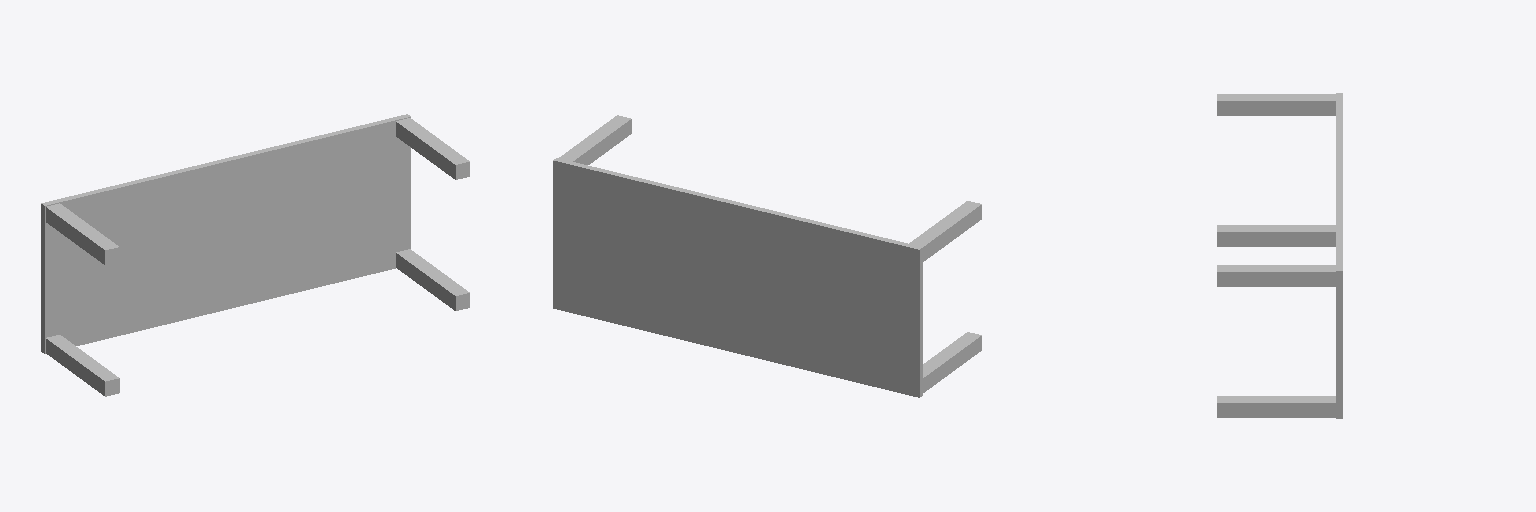
The model's file is random_table70.obj.
3 views of the same model, side by side, from view 1: azimuth 30°, elevation 25°; view 2: azimuth 150°, elevation 25°; view 3: azimuth 270°, elevation 25° (orthographic).
Visible parts, largest first — view 1: Table_Cube.1415, TableLeg0_Cube.1416, TableLeg2_Cube.1418, TableLeg3_Cube.1419, TableLeg1_Cube.1417; view 2: Table_Cube.1415, TableLeg1_Cube.1417, TableLeg3_Cube.1419, TableLeg0_Cube.1416; view 3: TableLeg0_Cube.1416, TableLeg1_Cube.1417, TableLeg2_Cube.1418, TableLeg3_Cube.1419, Table_Cube.1415.
Boxes of the visible parts, x1=… form: Table_Cube.1415: x1=41, y1=114, x2=410, y2=353; TableLeg0_Cube.1416: x1=396, y1=118, x2=469, y2=179; TableLeg2_Cube.1418: x1=396, y1=249, x2=469, y2=310; TableLeg3_Cube.1419: x1=46, y1=335, x2=119, y2=396; TableLeg1_Cube.1417: x1=46, y1=203, x2=119, y2=265; Table_Cube.1415: x1=553, y1=158, x2=922, y2=397; TableLeg1_Cube.1417: x1=909, y1=201, x2=981, y2=261; TableLeg3_Cube.1419: x1=923, y1=332, x2=981, y2=392; TableLeg0_Cube.1416: x1=559, y1=115, x2=631, y2=164; TableLeg0_Cube.1416: x1=1217, y1=265, x2=1335, y2=286; TableLeg1_Cube.1417: x1=1217, y1=94, x2=1335, y2=115; TableLeg2_Cube.1418: x1=1217, y1=396, x2=1335, y2=417; TableLeg3_Cube.1419: x1=1217, y1=225, x2=1335, y2=246; Table_Cube.1415: x1=1336, y1=93, x2=1342, y2=418.
Size of the model in its own units: 13.85 by 5.35 by 4.15.